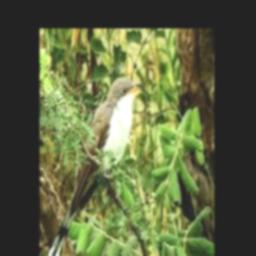Cuckoo: (47, 77, 145, 256)
